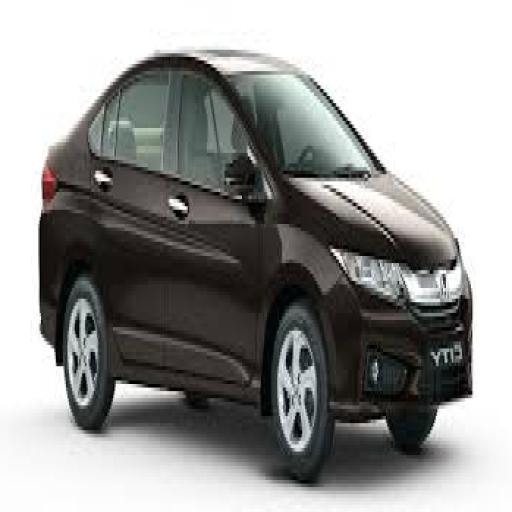License: (424, 325, 468, 374)
